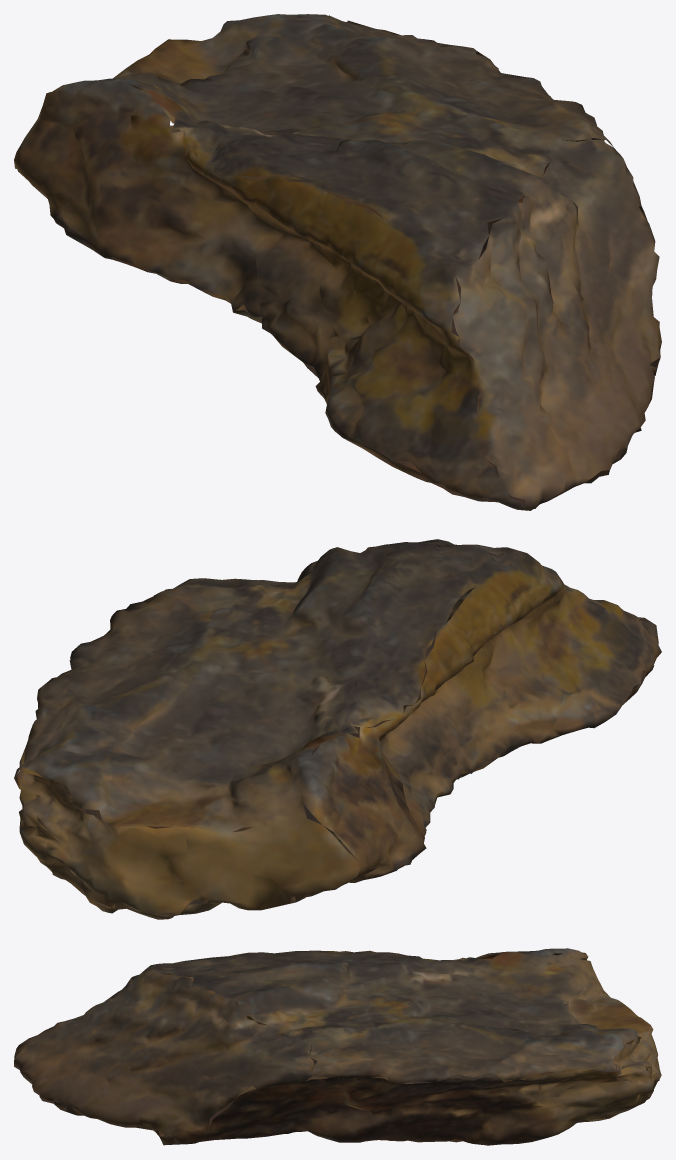
Rendered from rock-09.glb.
3 renders of one model, top to bottom at view 1: azimuth 30°, elevation 25°; view 2: azimuth 150°, elevation 25°; view 3: azimuth 270°, elevation 25°, orthographic. The views are drawn at different scales.
Parts seen in each view (by area): view 1: rock_09_LOD0; view 2: rock_09_LOD0; view 3: rock_09_LOD0.
Part boxes in pixels (<box>): rock_09_LOD0: <box>14,14,661,510</box>; rock_09_LOD0: <box>14,539,661,919</box>; rock_09_LOD0: <box>14,948,661,1145</box>.
Bounding box in the file's own units: 0.0739 × 0.0328 × 0.1446.
Materials: 1 (1 with a texture image).
